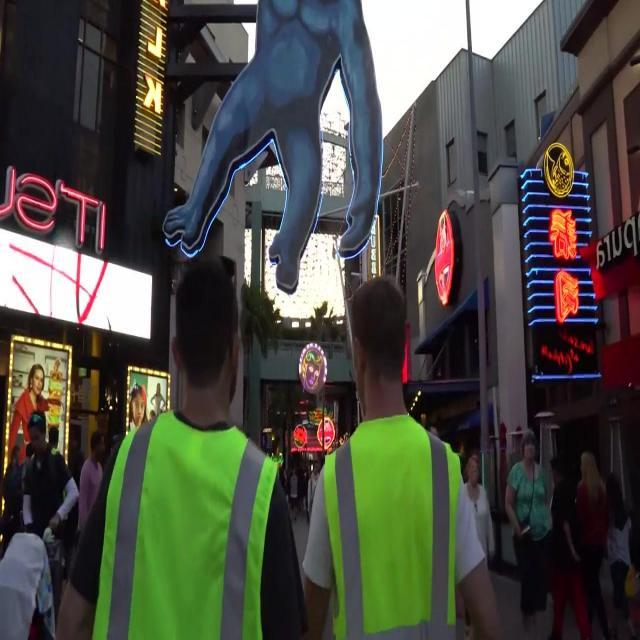reflective_jacket: (89, 403, 283, 639), (316, 410, 465, 639)
